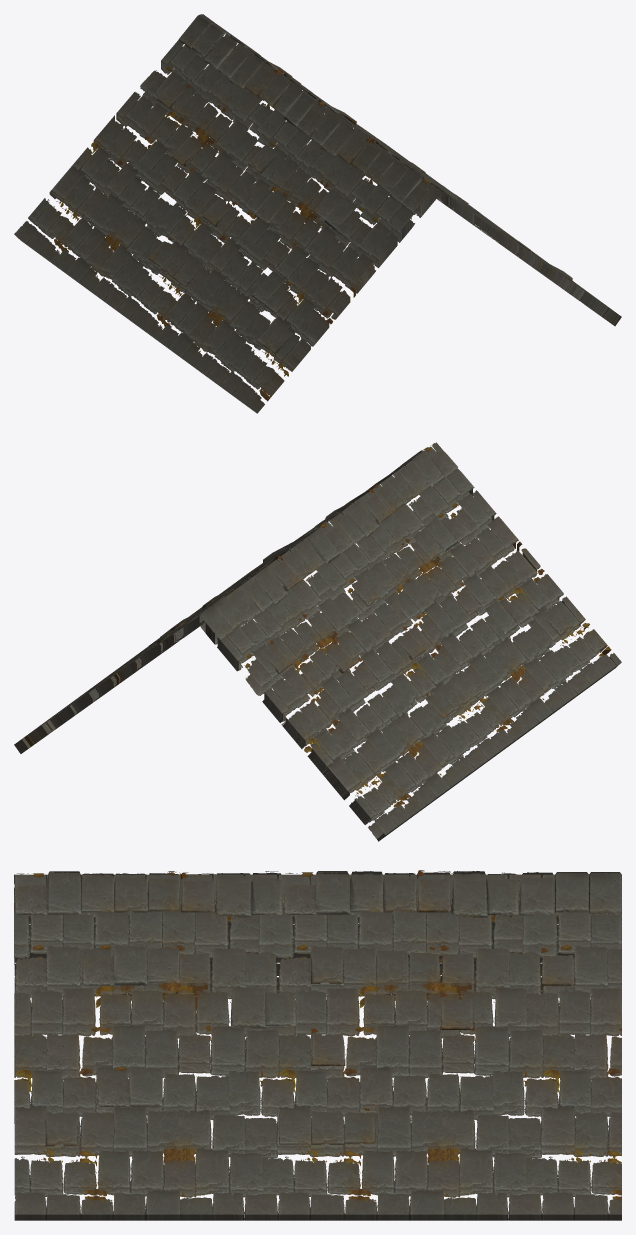
The picture shows the model from 3 angles, top to bottom: view 1: azimuth 30°, elevation 25°; view 2: azimuth 150°, elevation 25°; view 3: azimuth 270°, elevation 25°; orthographic projection. The views are drawn at different scales.
Parts seen in each view (by area): view 1: SM_Greathall_Roof_01_LOD0; view 2: SM_Greathall_Roof_01_LOD0; view 3: SM_Greathall_Roof_01_LOD0.
Boxes of the visible parts, x1,y1,x2,y2 form: SM_Greathall_Roof_01_LOD0: [14, 14, 621, 413]; SM_Greathall_Roof_01_LOD0: [14, 442, 621, 841]; SM_Greathall_Roof_01_LOD0: [14, 870, 621, 1220].
Bounding box in the file's own units: 7.25 × 3.44 × 8.01.
Materials: 1 (1 with a texture image).
